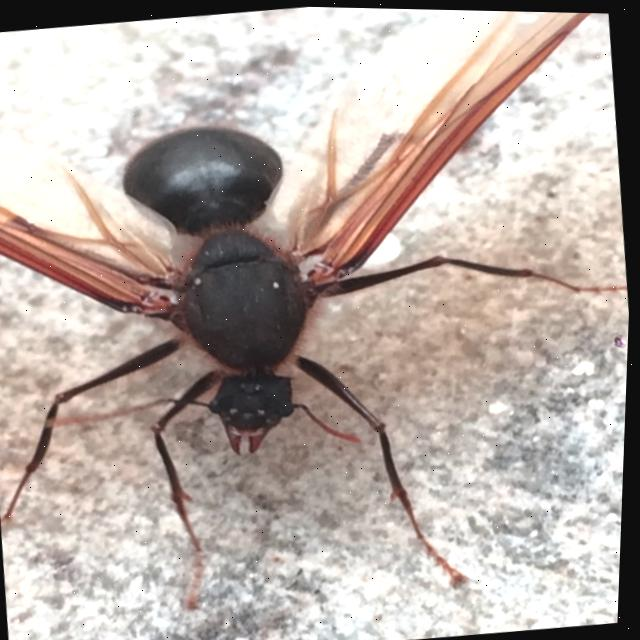Alive-Male-Alate: (0, 0, 640, 636)
